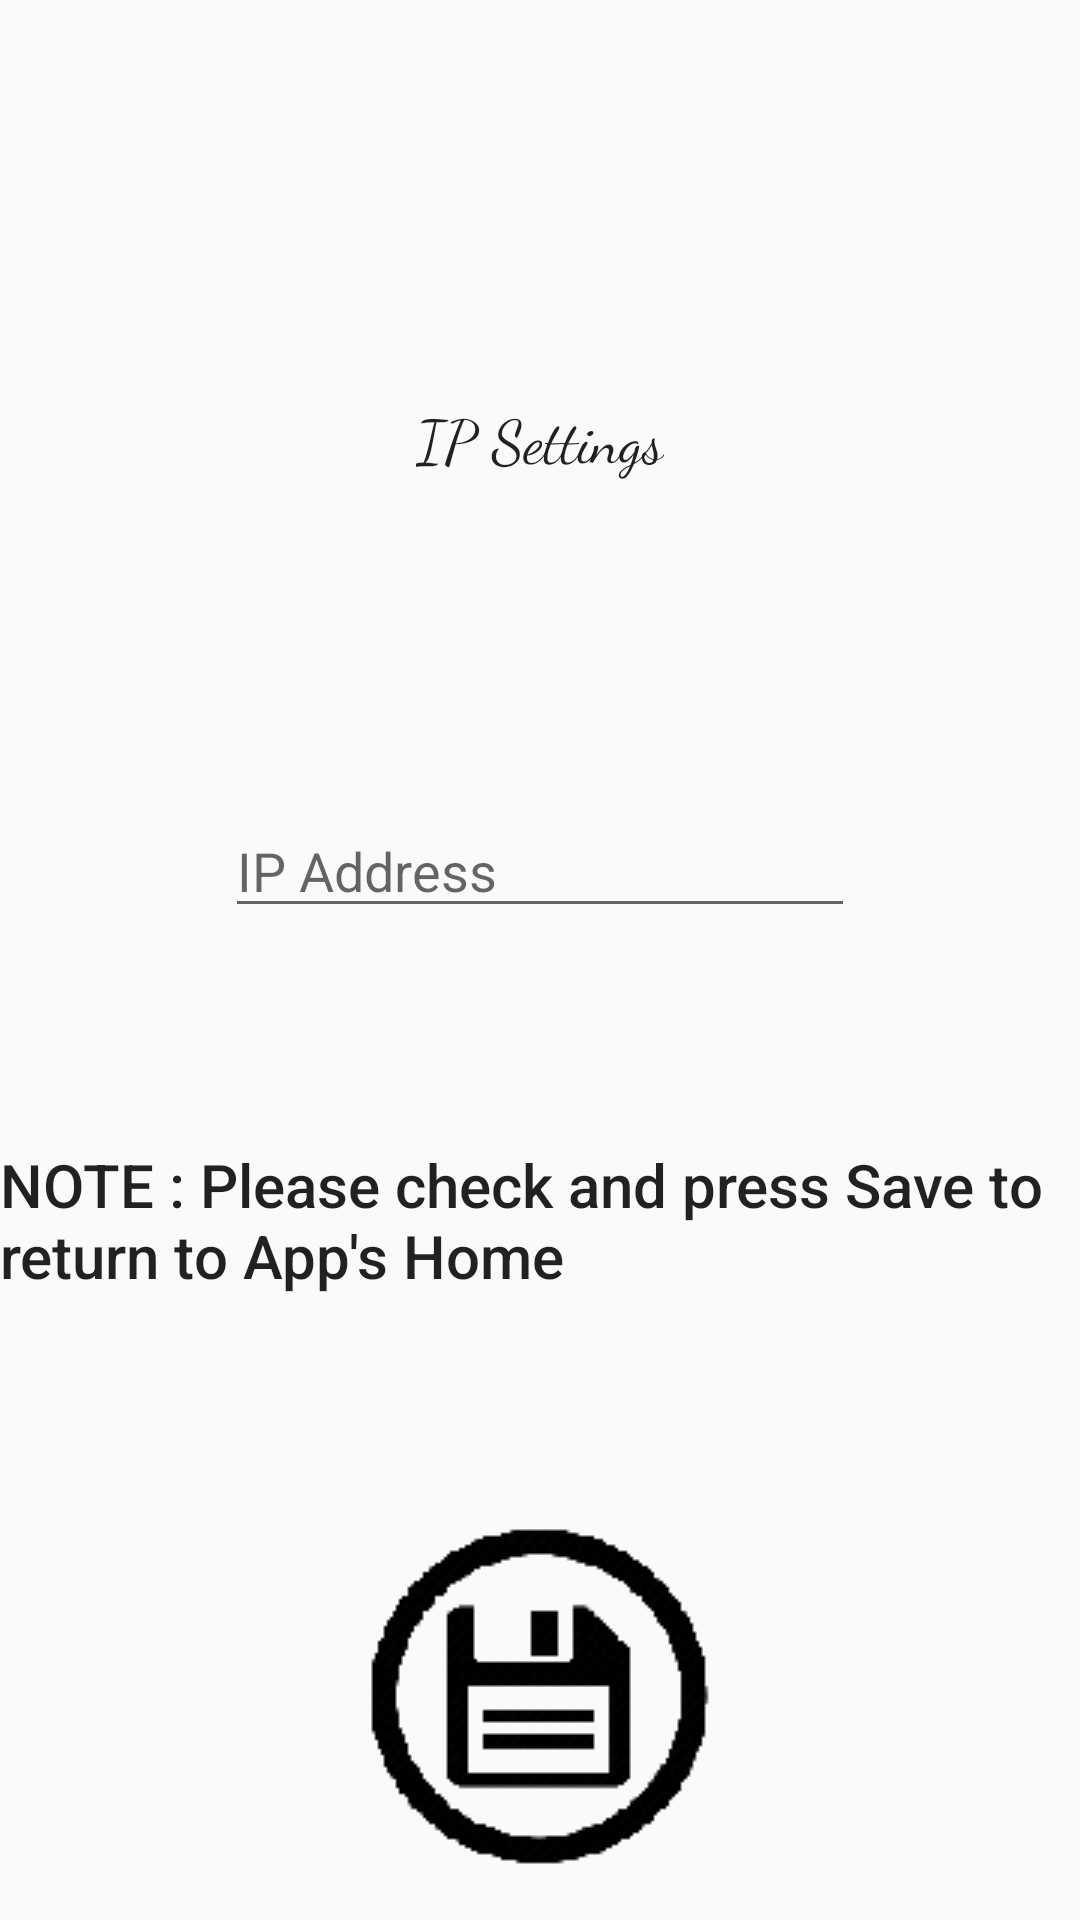

Screen size 1080px x 1920px. Icon name, then its box in pixels as region(x1, y1, x2, y2):
Save: region(371, 1529, 709, 1864)
